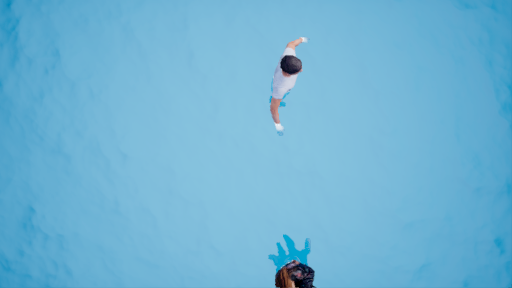person: (265, 40, 329, 121), (268, 219, 317, 288)
